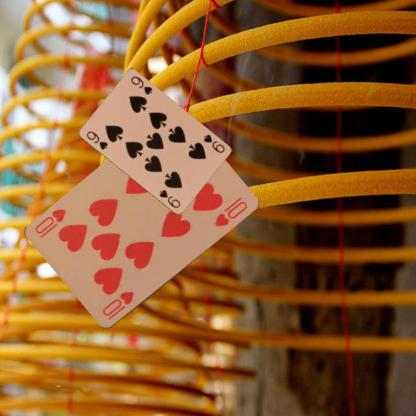10h: (100, 289, 136, 322)
9s: (84, 128, 109, 151), (201, 132, 226, 154)
